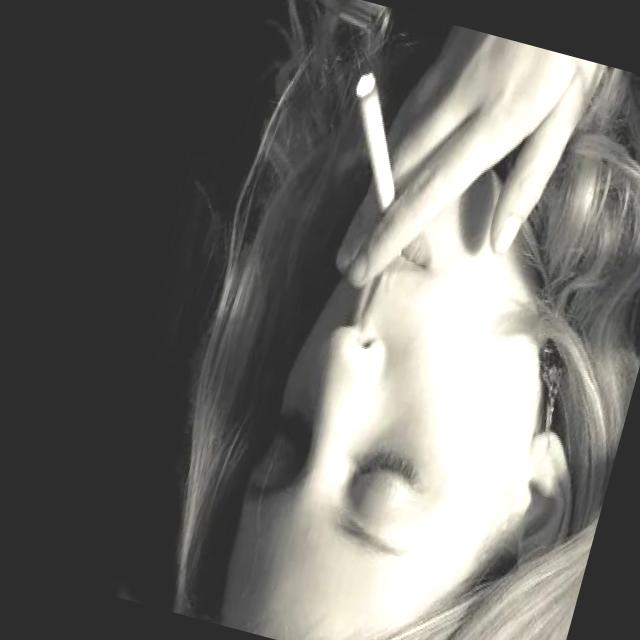smoke: (316, 57, 436, 240)
